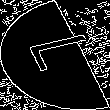L_E: (13, 32, 97, 78)
